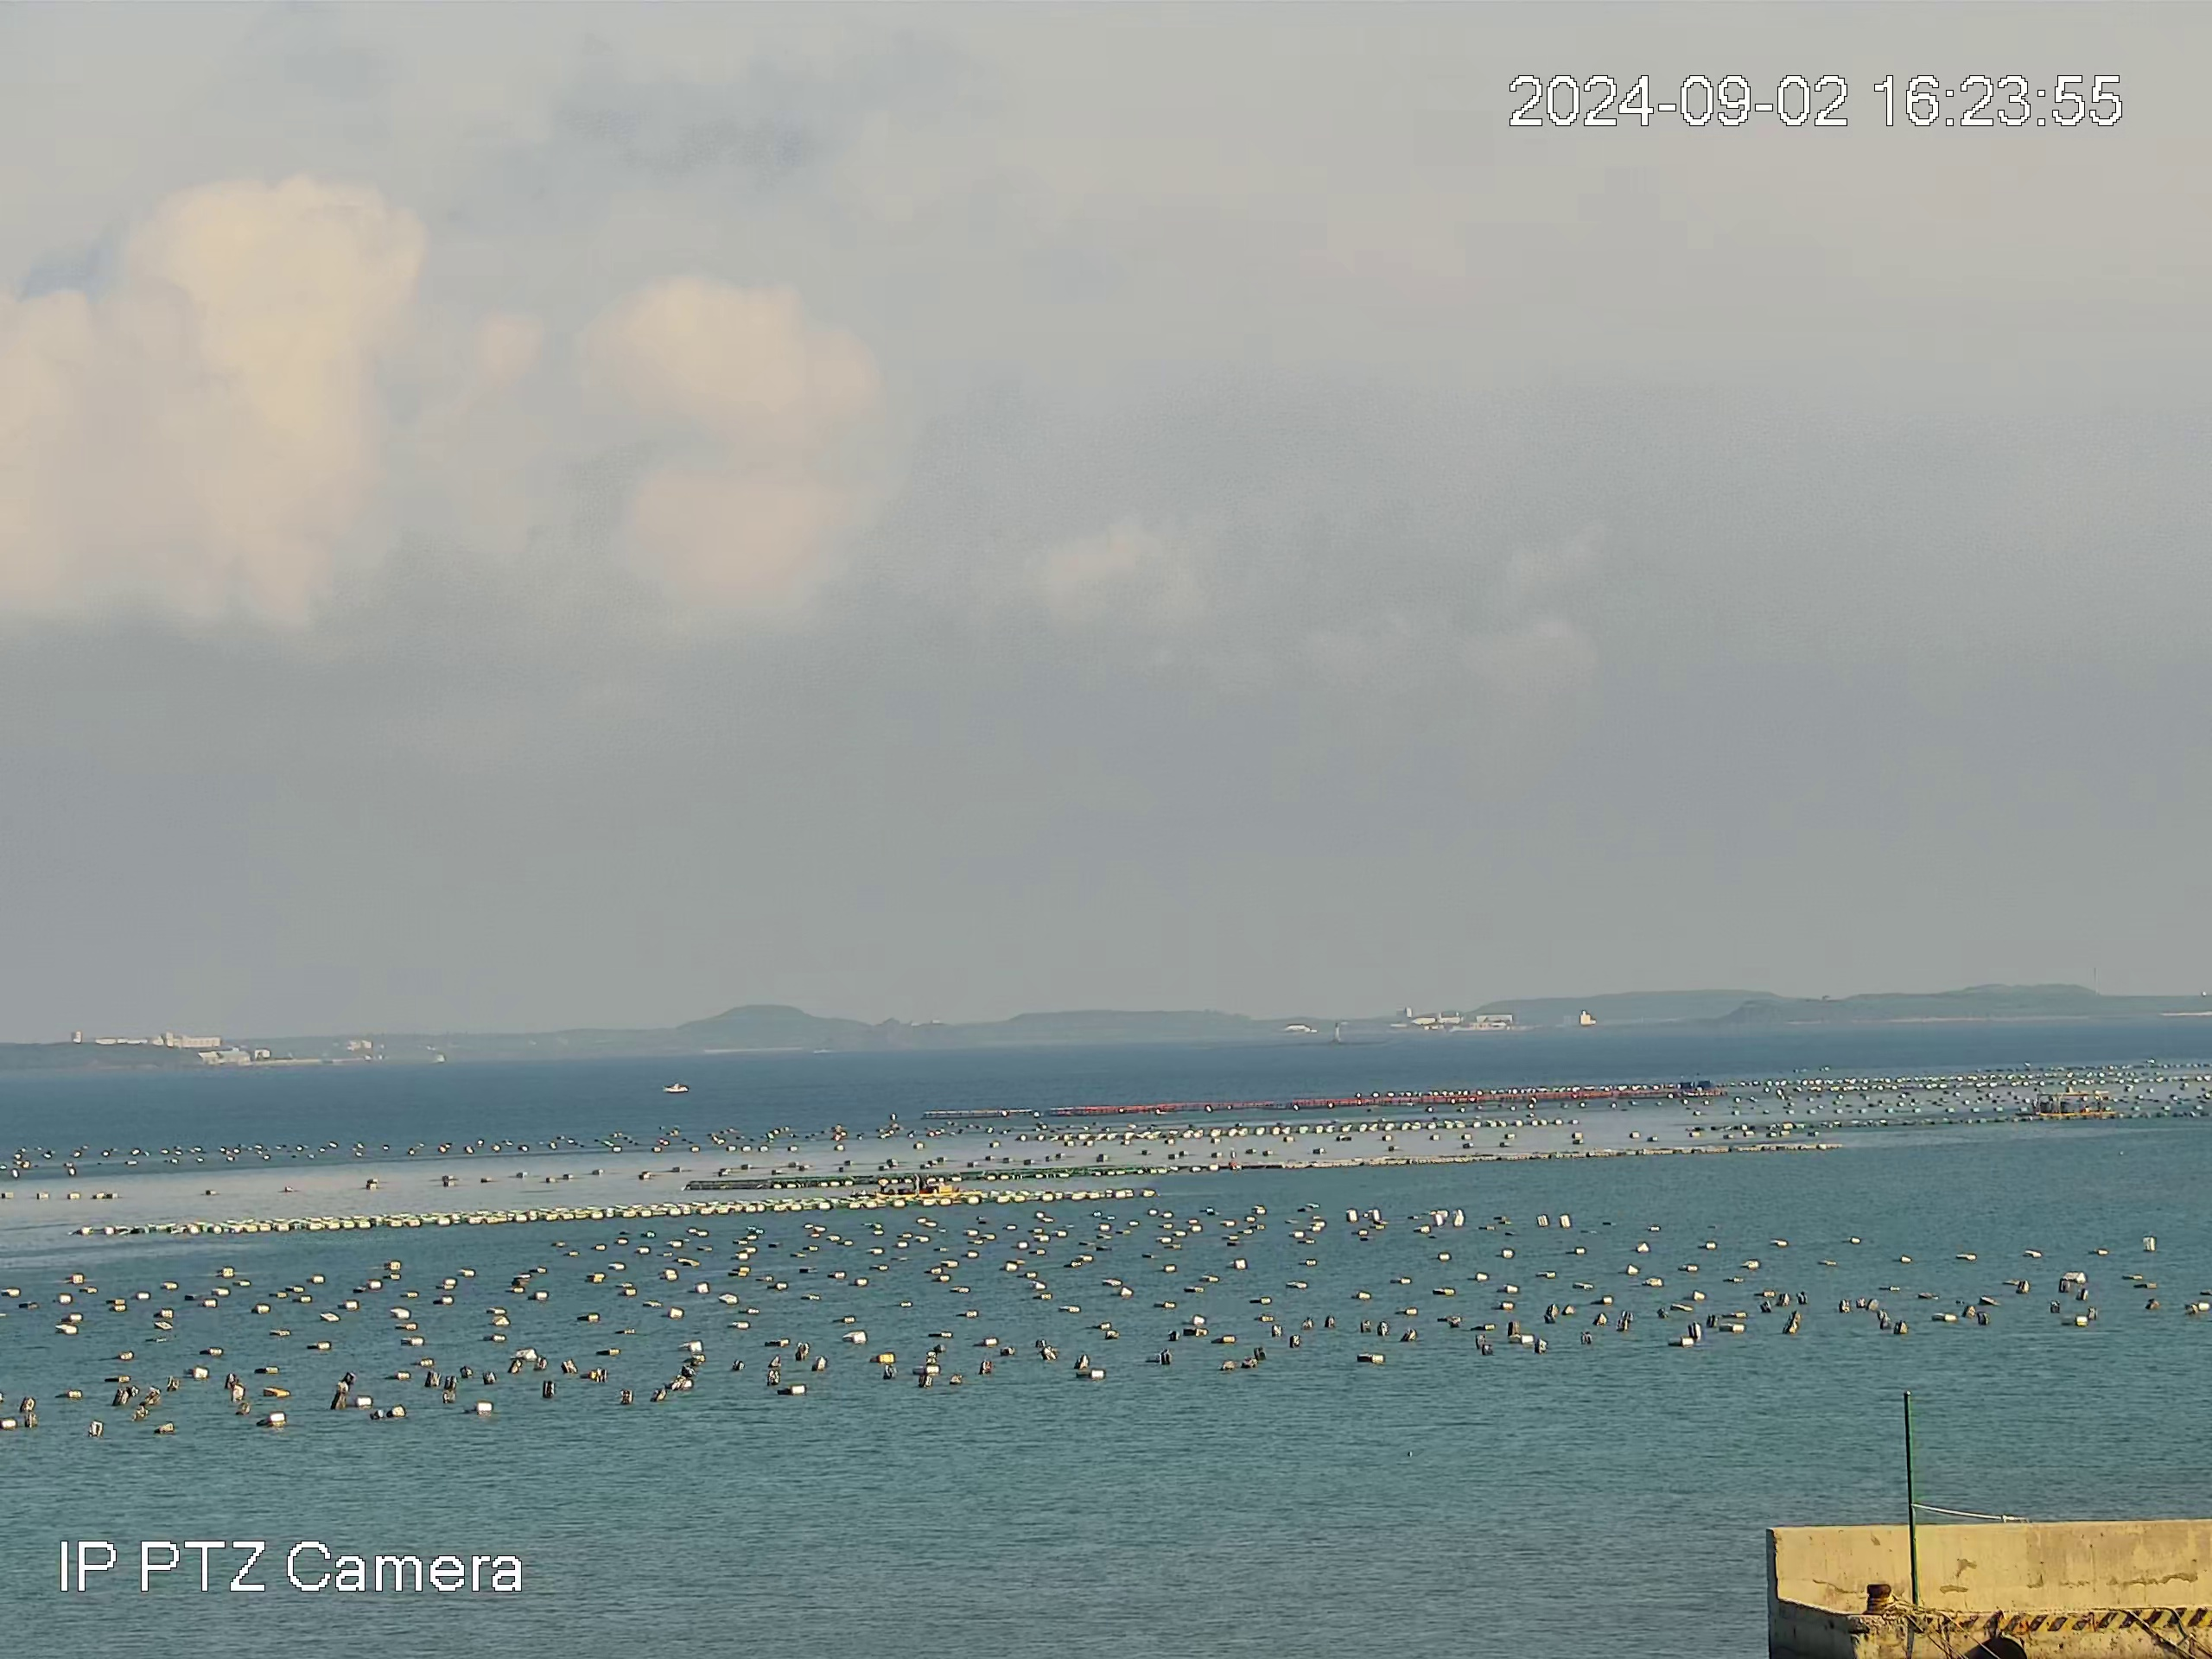boat: (874, 1173, 982, 1197), (2031, 1089, 2116, 1119), (662, 1080, 690, 1096)
